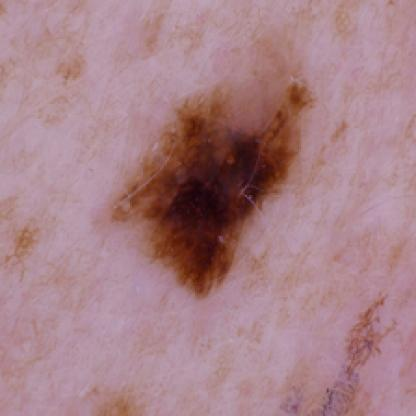Skin_Cancer-Malignant: (106, 66, 316, 302)
